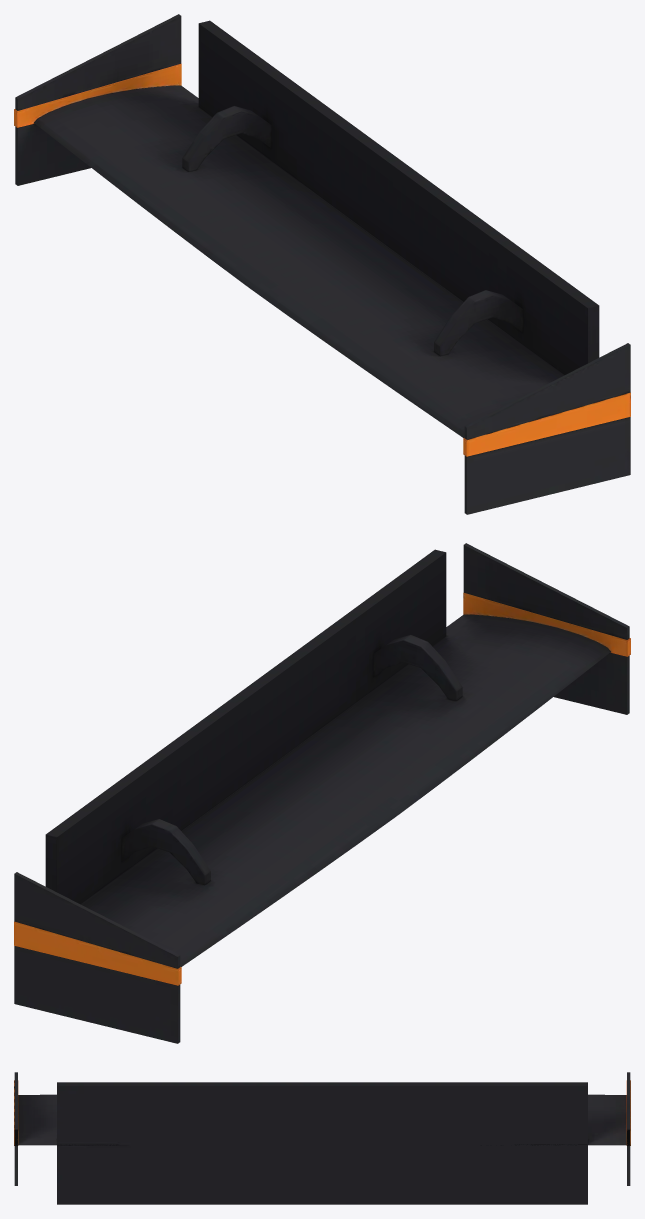
Rendered from cafe-wing.glb.
3 renders of one model, top to bottom at view 1: azimuth 30°, elevation 25°; view 2: azimuth 150°, elevation 25°; view 3: azimuth 270°, elevation 25°, orthographic. The views are drawn at different scales.
Parts seen in each view (by area): view 1: Cafe_Wing; view 2: Cafe_Wing; view 3: Cafe_Wing.
Boxes of the visible parts, x1,y1,x2,y2 form: Cafe_Wing: [14, 14, 630, 514]; Cafe_Wing: [14, 543, 630, 1043]; Cafe_Wing: [14, 1072, 630, 1204].
Bounding box in the file's own units: 0.3169 × 0.32 × 1.51.
Materials: 1 (1 with a texture image).
